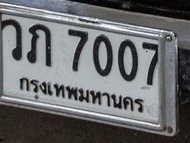txt27: (26, 22, 53, 69)
txt32: (1, 18, 23, 62)
